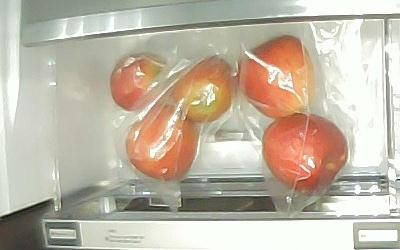apple_vinyl: (262, 113, 348, 193), (239, 35, 315, 119), (127, 101, 198, 180), (170, 55, 231, 124), (108, 52, 166, 113)
